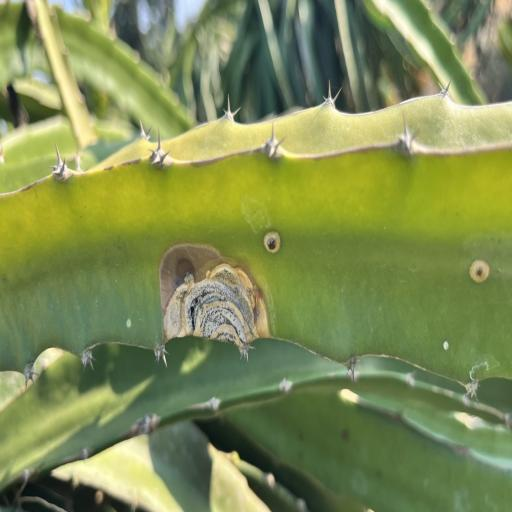stemcanker: (460, 252, 492, 294), (258, 226, 287, 266), (434, 325, 460, 361), (117, 307, 137, 341), (438, 333, 454, 362), (441, 328, 453, 356), (120, 310, 133, 335), (121, 309, 135, 332), (443, 337, 453, 351), (123, 316, 133, 327)
